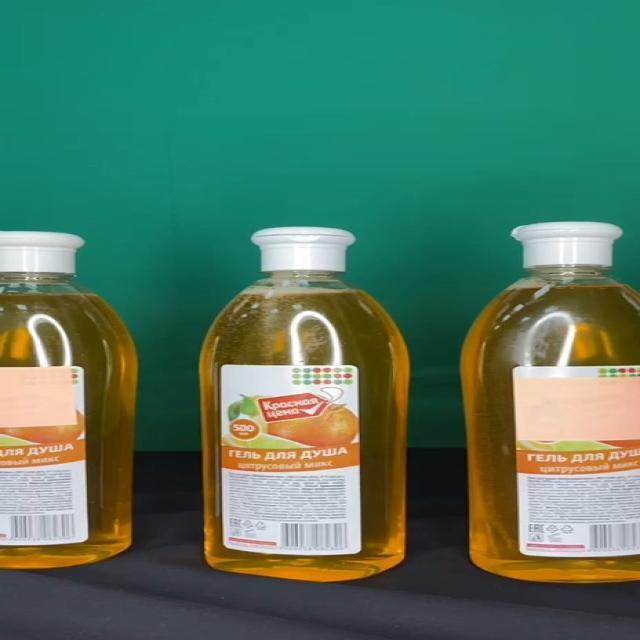Bottle: (199, 227, 409, 582), (463, 222, 640, 583)
Cap: (514, 222, 622, 266), (250, 227, 357, 271)
